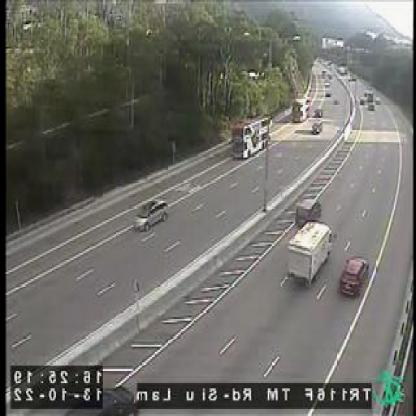Bus: (233, 119, 272, 161), (293, 95, 311, 123)
Car: (337, 254, 370, 298), (134, 196, 169, 232), (294, 197, 321, 228), (312, 120, 324, 133), (314, 108, 323, 119), (325, 86, 332, 97)
Truck: (286, 220, 333, 286)
